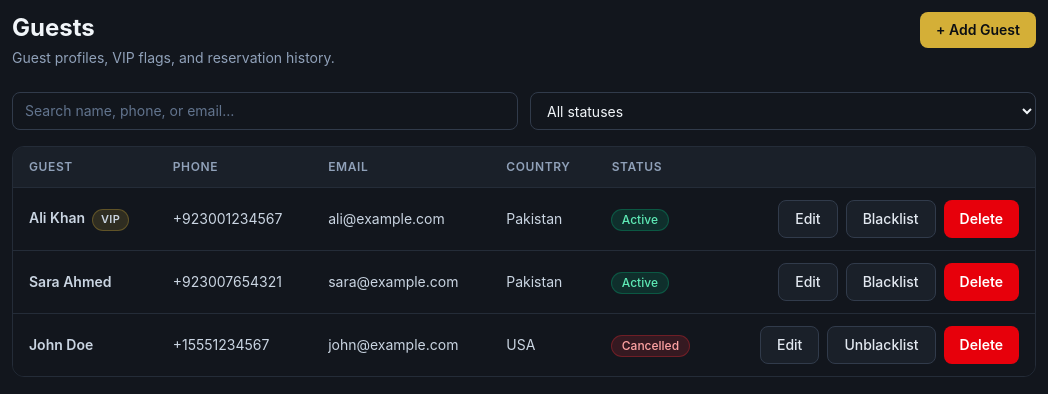
GuestsPage › filters guests by phone number
Check: the button "John Doe" is shown, box [29,335,93,355]
Type "+1555" into the field named "Search guests" at (265, 111), box [12,92,518,130]
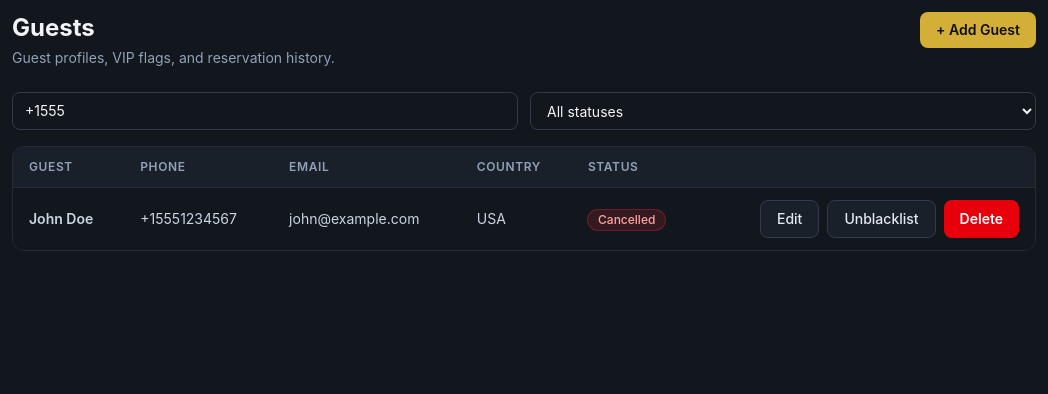
Check: the button "John Doe" is shown, box [29,209,93,229]
Check: the button "Ali Khan" is gone
